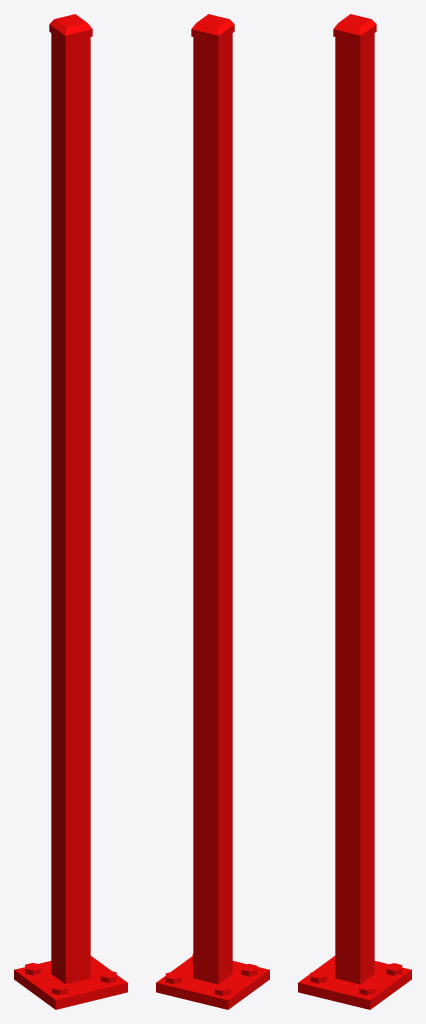
Rendered from FencePost.fbx.
3 renders of one model, left to right at view 1: azimuth 30°, elevation 25°; view 2: azimuth 150°, elevation 25°; view 3: azimuth 330°, elevation 25°, orthographic.
Visible parts, largest first — view 1: Post_low; view 2: Post_low; view 3: Post_low.
Boxes of the visible parts, x1,y1,x2,y2 form: Post_low: [14, 14, 127, 1009]; Post_low: [156, 14, 269, 1009]; Post_low: [298, 14, 411, 1009].
Size of the model in its own units: 17.43 by 223 by 17.43.
